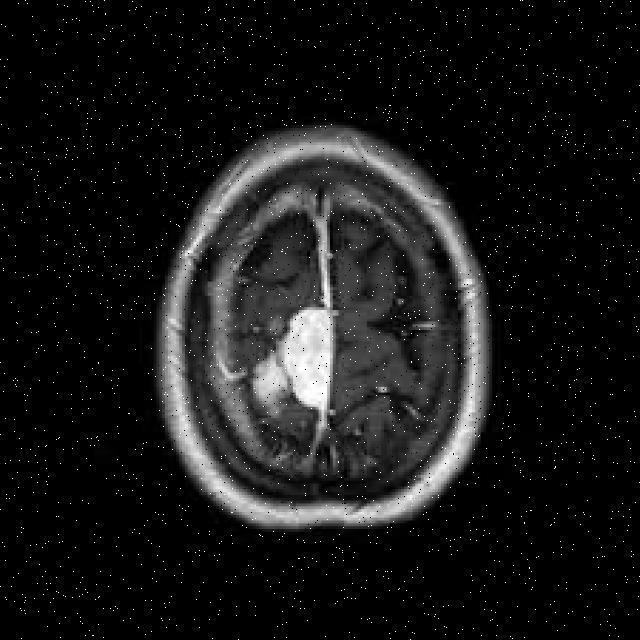Meningioma: (280, 308, 332, 410)
